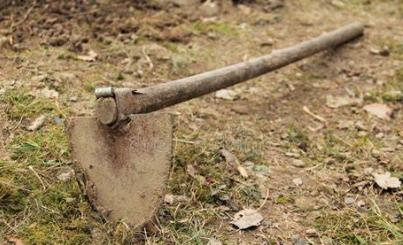HOUE: (63, 16, 371, 234)
